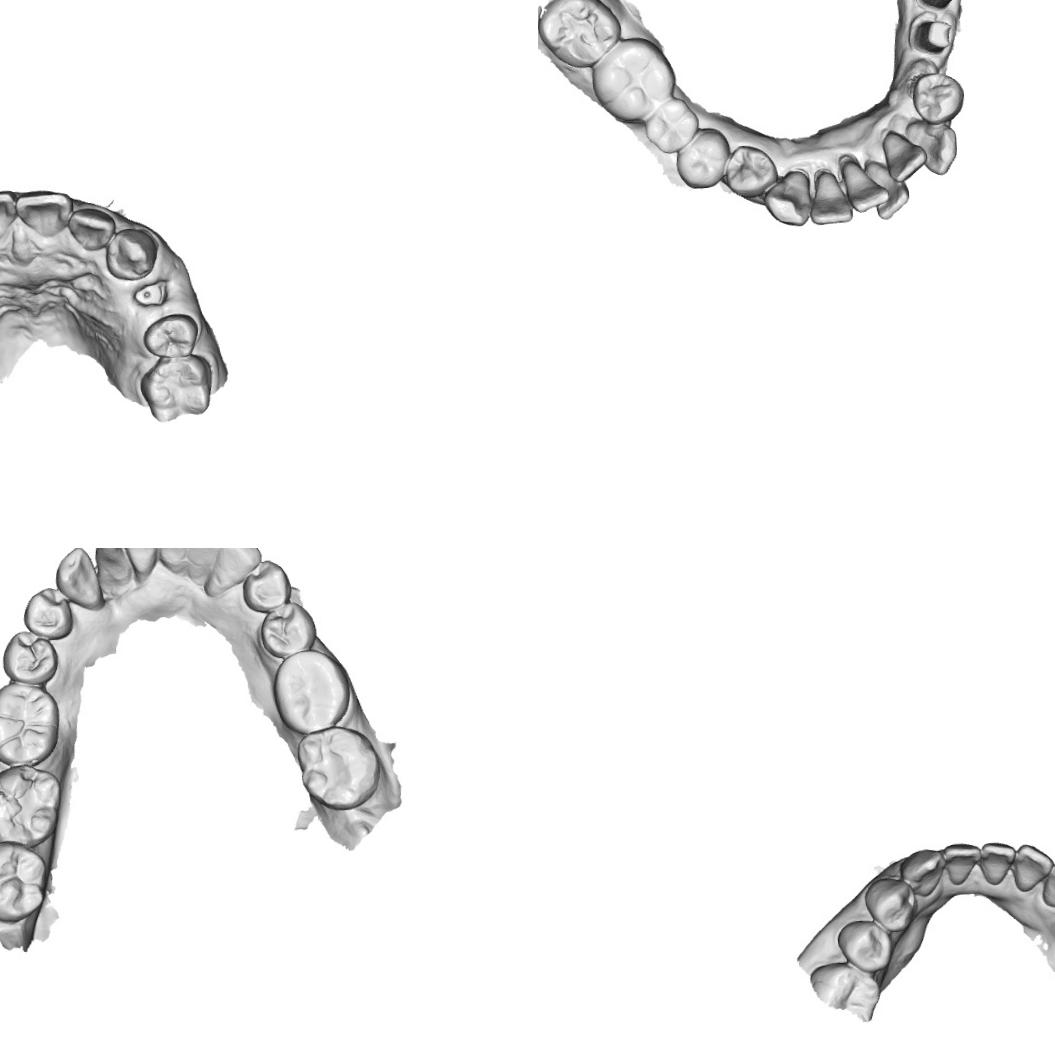abutment: (912, 15, 958, 54), (915, 0, 961, 15)
canine: (903, 115, 960, 178), (760, 167, 816, 228), (53, 548, 105, 611), (102, 225, 158, 281), (899, 846, 947, 900), (206, 548, 263, 590), (1039, 857, 1055, 909)
implant: (133, 281, 163, 307)
incisor: (14, 187, 75, 239), (839, 152, 888, 216), (865, 154, 909, 220), (878, 126, 928, 182), (808, 168, 854, 226), (66, 206, 117, 252), (1011, 842, 1055, 894), (974, 836, 1016, 888), (942, 840, 982, 886), (91, 548, 134, 589), (116, 548, 160, 580), (0, 188, 17, 243), (156, 548, 192, 573), (186, 548, 225, 564)
molar: (586, 33, 681, 128), (294, 723, 382, 812), (269, 646, 353, 736), (538, 0, 624, 71), (0, 760, 64, 850), (0, 679, 62, 769), (136, 352, 214, 423), (0, 837, 50, 925), (642, 94, 700, 155)
premolar: (256, 598, 318, 661), (674, 125, 733, 190), (0, 627, 59, 686), (834, 916, 894, 974), (860, 874, 916, 934), (911, 67, 968, 125), (722, 142, 779, 198), (240, 557, 294, 615), (21, 585, 74, 641), (140, 310, 199, 360)
